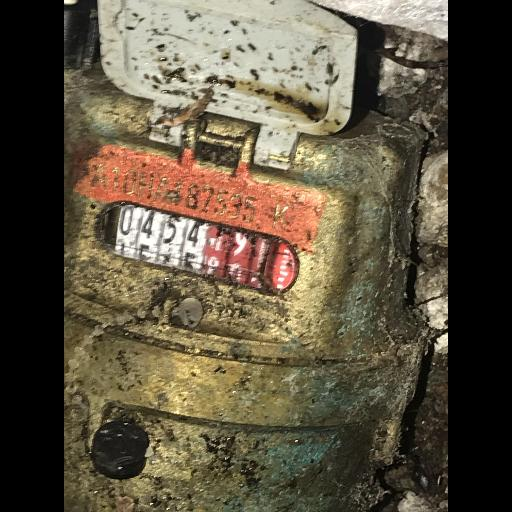0: (112, 203, 143, 258)
1: (245, 233, 277, 290)
4: (177, 217, 208, 273), (133, 207, 163, 263)
5: (154, 212, 186, 268)
7: (199, 223, 230, 280)
9: (221, 228, 255, 285)
border_water_meter_number: (89, 195, 306, 300)
